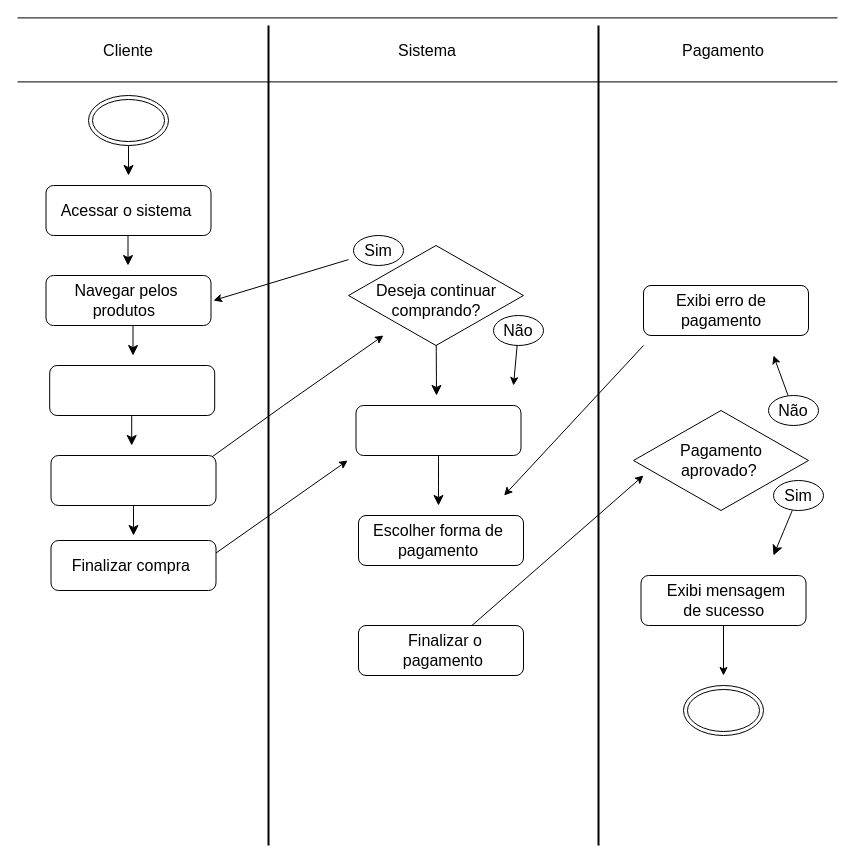
This 855x864 diagram has some shape labels left out. The shapes that lost their labels are listed below. From the top down, each one's centre as x and y in pixels, then its label:
pixel 128 120: Início
pixel 132 390: Selecionar produto
pixel 438 430: Informar dados login/endereço
pixel 133 480: Adicionar ao carrinho
pixel 723 710: Fim
